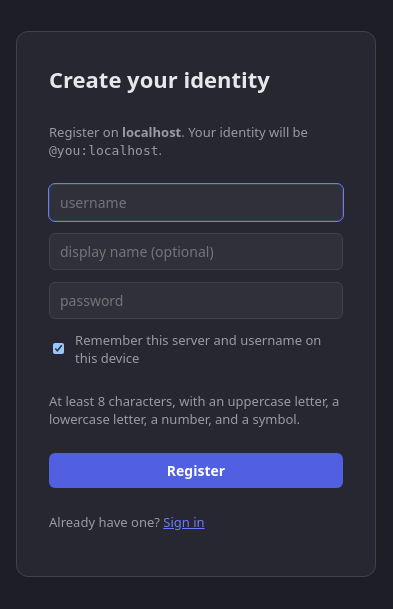
Test: AuthPage - invite-only registration › does not start asking for a code because of some other problem
Type "alice" into the field with placeholder "username".
click(196, 202); type("alice")  # box [49,184,343,221]
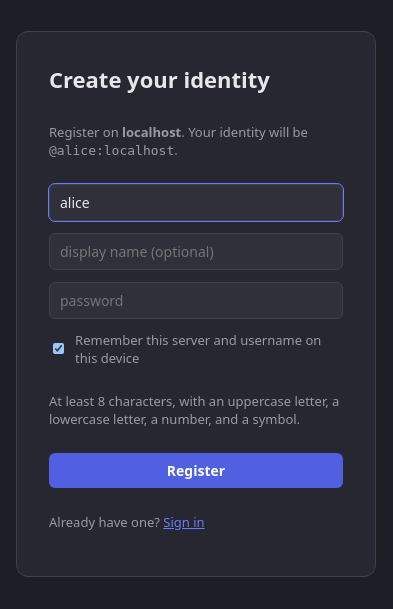
Type "Str0ng!Passw0rd" into the password field with placeholder "password".
click(196, 300); type("Str0ng!Passw0rd")  # box [49,282,343,319]
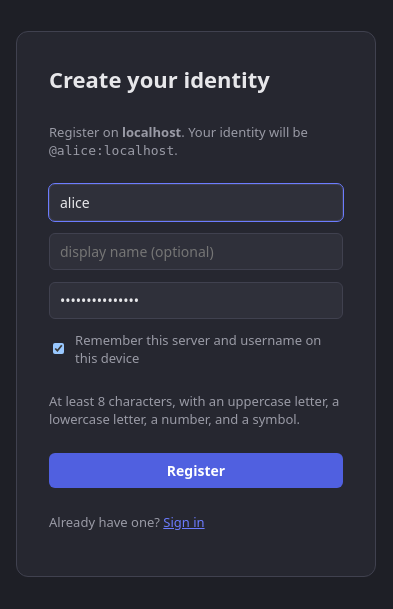
Click the button "Register".
click(196, 471)  # box [49,453,343,488]
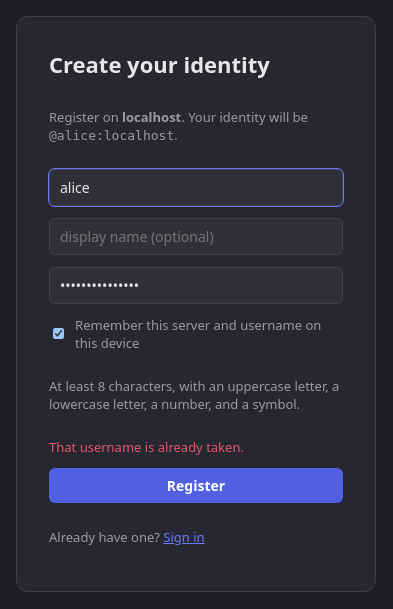
Check: the text "That username is already taken." is shown, box [49,438,244,456]
